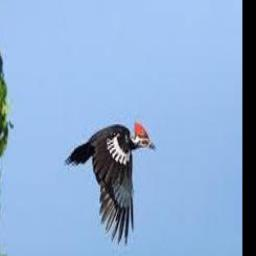Woodpecker: (64, 120, 156, 245)
